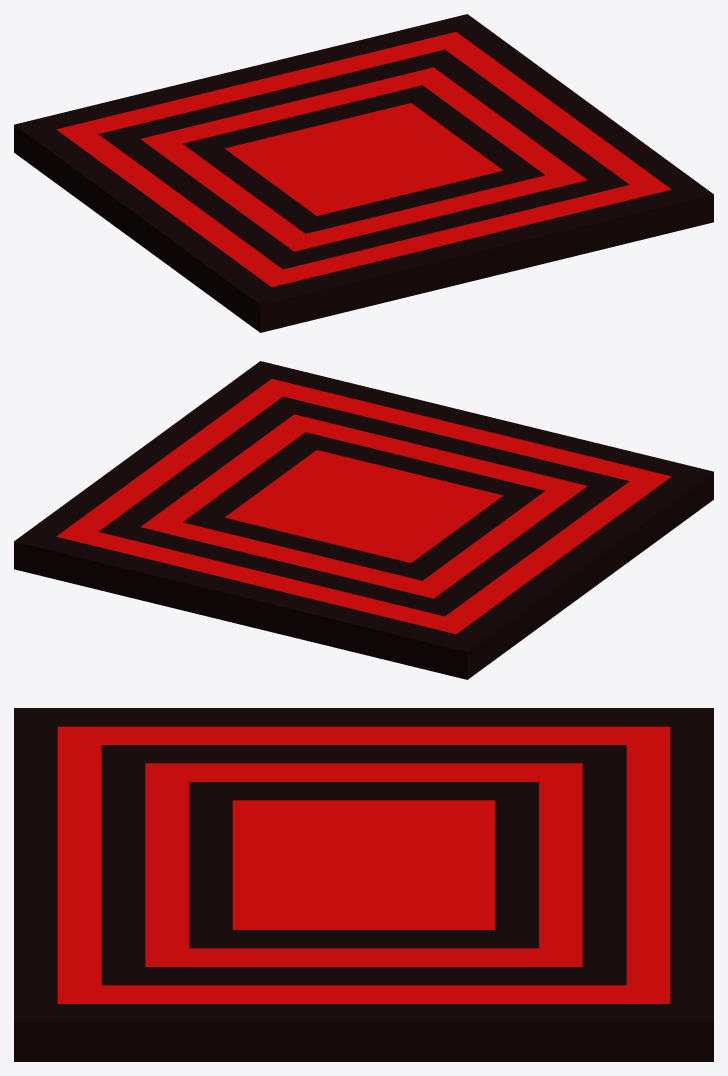
Rendered from PlacaPressao-OFF.obj.
3 renders of one model, top to bottom at view 1: azimuth 30°, elevation 25°; view 2: azimuth 150°, elevation 25°; view 3: azimuth 270°, elevation 25°, orthographic. The views are drawn at different scales.
Bounding box in the file's own units: 1.7 × 0.1 × 1.6.
Materials: 1 (1 with a texture image).
